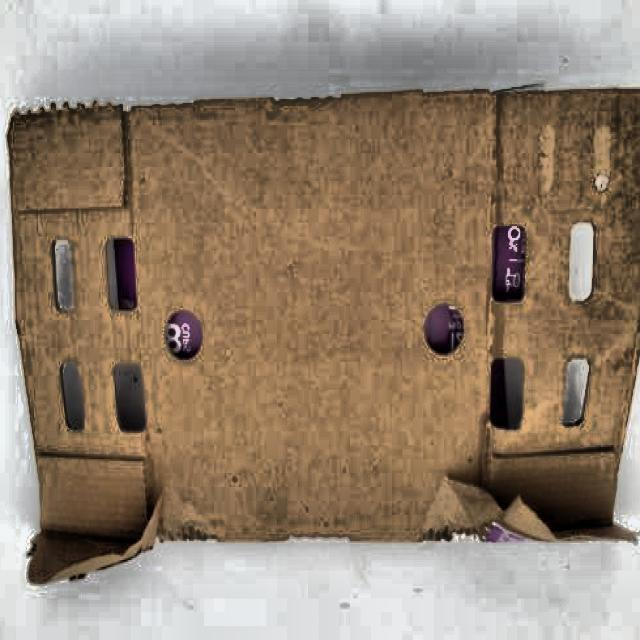cardboard: (5, 85, 640, 588)
